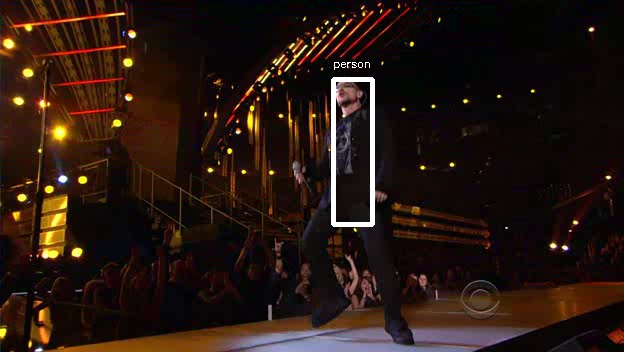person: (313, 79, 383, 225), (310, 79, 380, 225), (316, 79, 386, 225), (313, 76, 383, 222), (313, 82, 383, 228)
target_negative: (169, 283, 575, 321), (528, 53, 593, 228), (459, 30, 485, 324), (104, 43, 368, 66), (599, 12, 616, 279), (263, 155, 394, 189)
